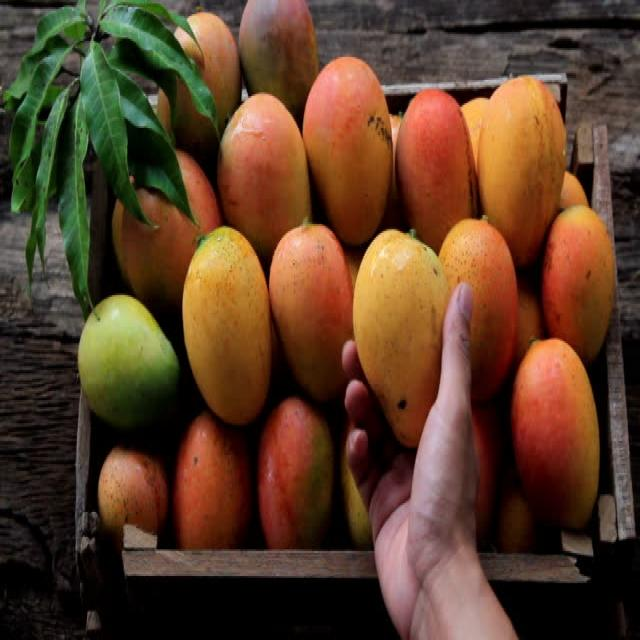mango: (354, 231, 450, 448), (182, 227, 271, 424), (511, 338, 600, 528), (478, 76, 566, 268), (112, 153, 221, 308), (302, 60, 392, 243), (218, 93, 311, 261), (271, 224, 354, 400), (439, 220, 518, 401), (396, 89, 478, 252), (78, 300, 179, 430), (542, 204, 614, 364), (258, 398, 332, 549), (172, 411, 252, 548), (239, 0, 319, 116), (98, 447, 169, 550)
